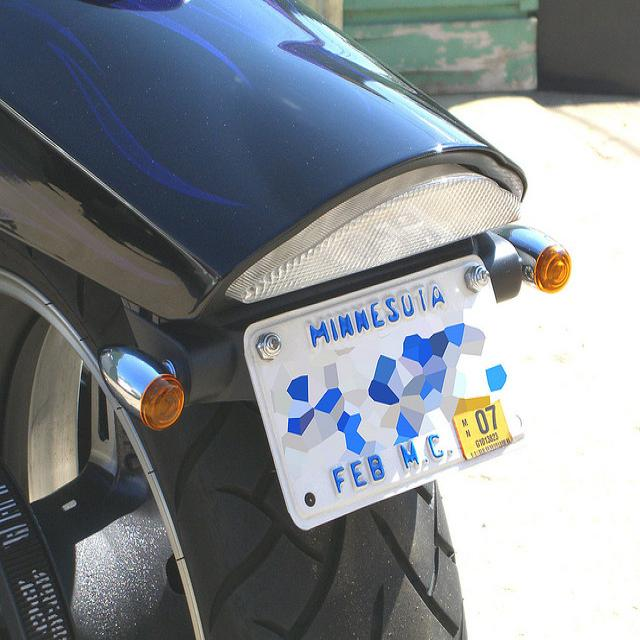motor: (1, 3, 569, 632)
